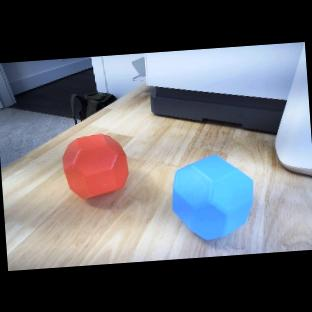V5_BLUE: (168, 149, 256, 242)
V5_RED: (61, 131, 130, 200)
